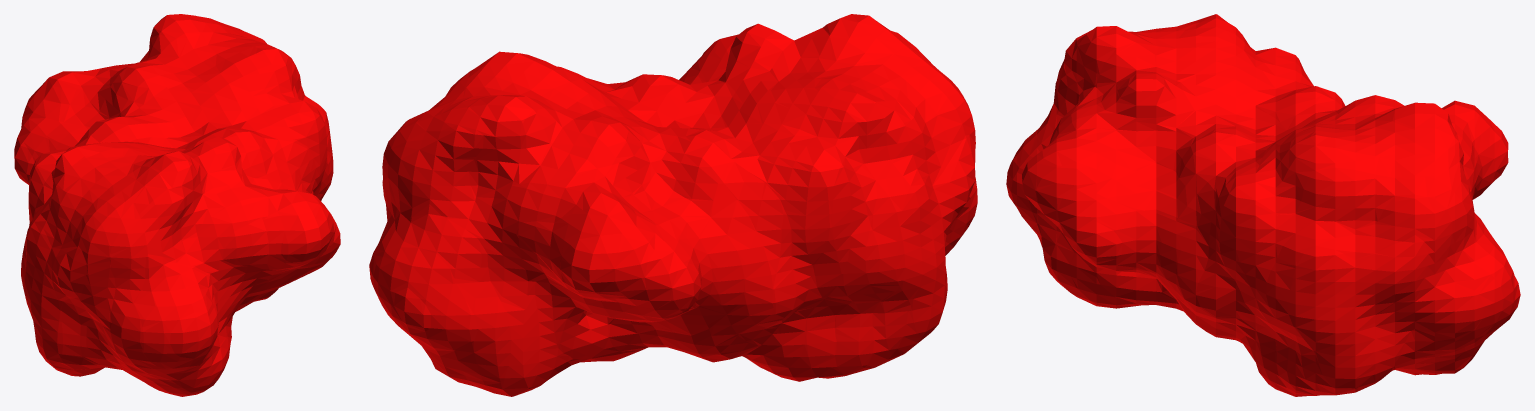
Rendered from yciK_coarse.dae.
3 renders of one model, left to right at view 1: azimuth 30°, elevation 25°; view 2: azimuth 150°, elevation 25°; view 3: azimuth 270°, elevation 25°, orthographic. The views are drawn at different scales.
Parts seen in each view (by area): view 1: yciK; view 2: yciK; view 3: yciK.
Boxes of the visible parts, <box> form: yciK: <box>14,14,340,396</box>; yciK: <box>369,14,977,396</box>; yciK: <box>1006,14,1520,396</box>.
Size of the model in its own units: 67.84 by 44.73 by 75.43.
